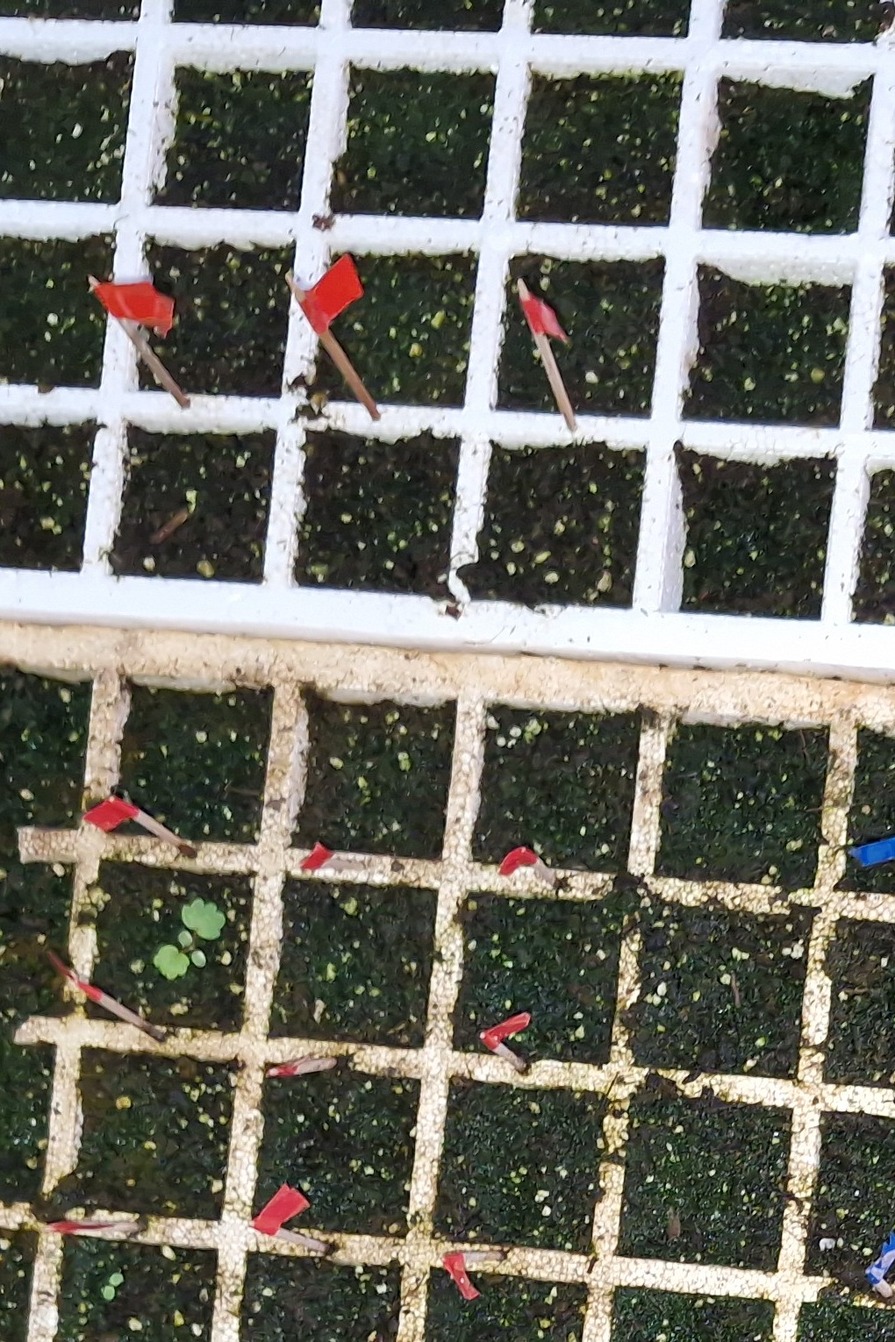Folha: (181, 898, 225, 940), (154, 945, 189, 980), (191, 950, 206, 967), (178, 930, 192, 947), (109, 1272, 124, 1287), (103, 1286, 115, 1300)
Germinacao: (152, 899, 226, 980), (103, 1273, 123, 1300)
